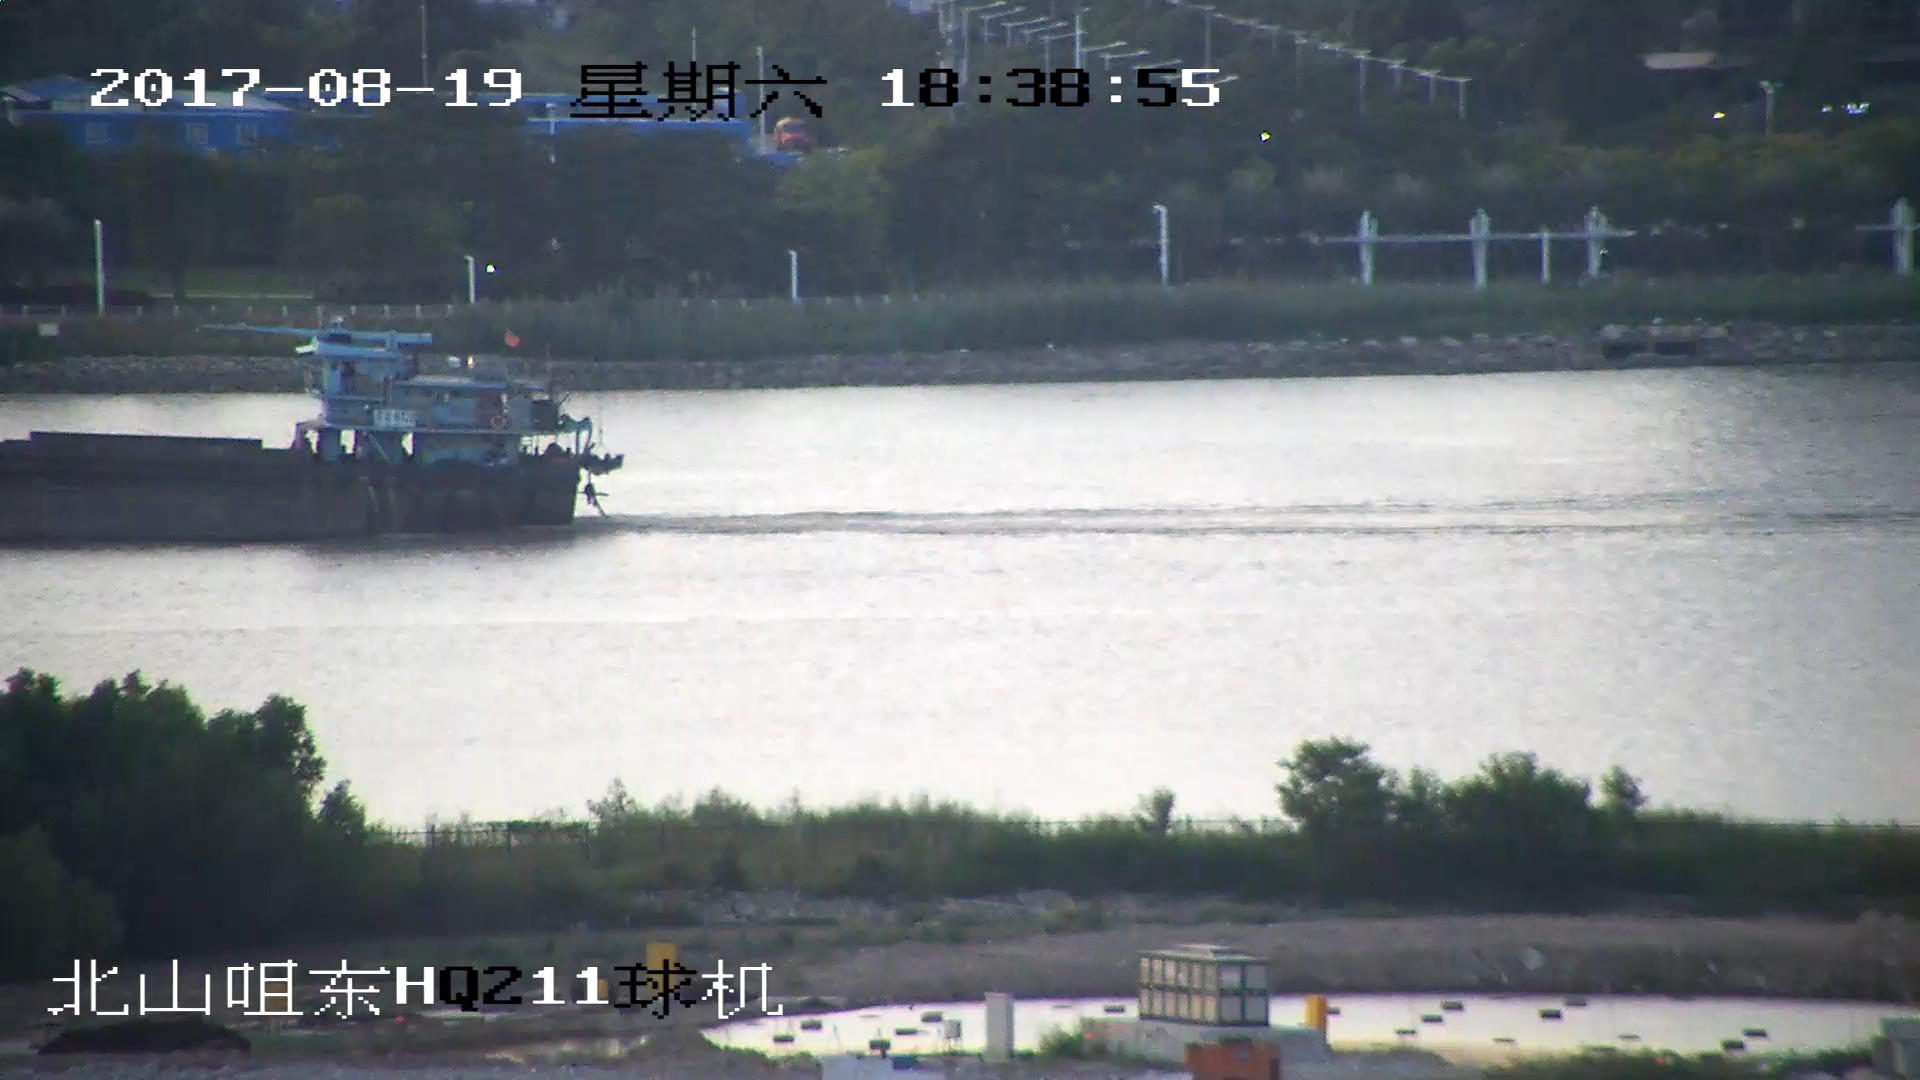bulk cargo carrier: (1, 316, 618, 540)
